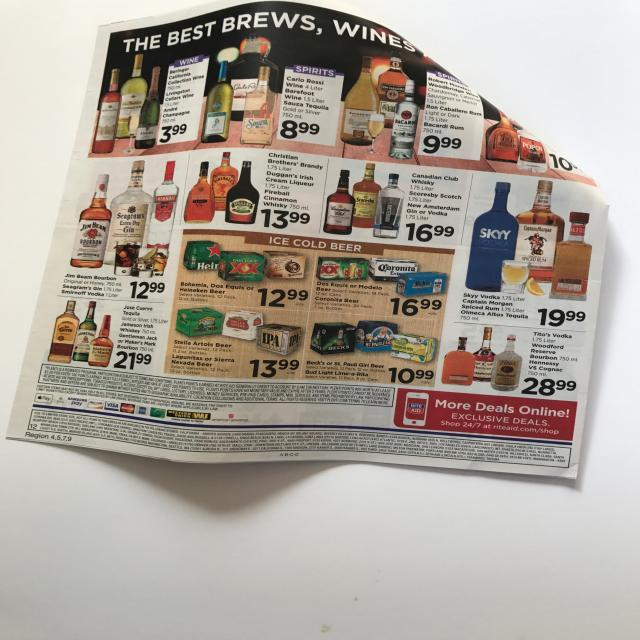paper: (6, 3, 610, 482)
